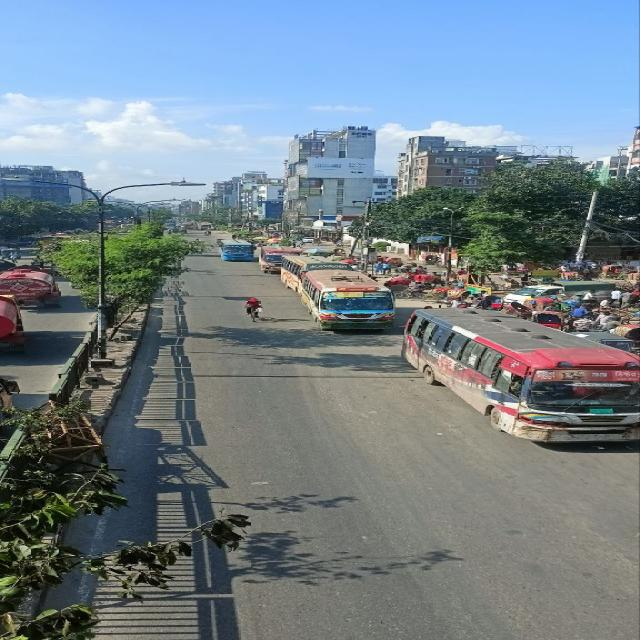people: (593, 310, 620, 330), (573, 313, 598, 332)
vehicle: (395, 306, 640, 444), (298, 268, 400, 333), (504, 279, 618, 306), (278, 253, 353, 289), (256, 246, 306, 275), (215, 236, 258, 263), (236, 294, 274, 324), (522, 310, 569, 332), (442, 288, 493, 307), (375, 256, 409, 269), (418, 272, 442, 287)
